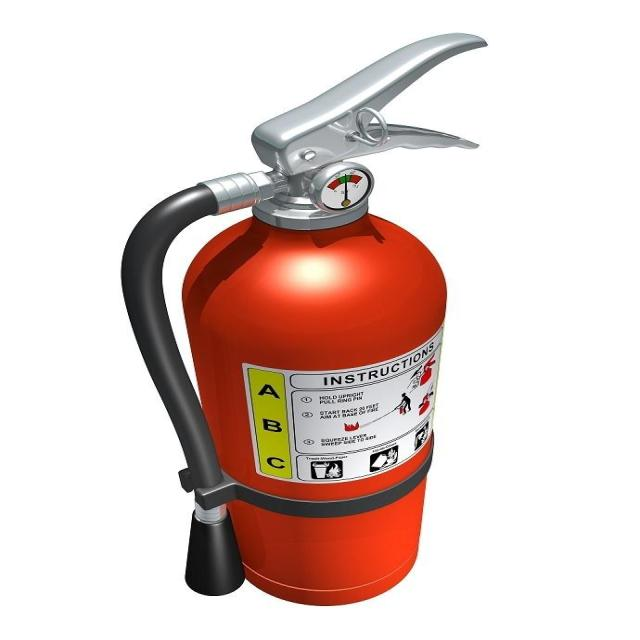fire_extinguisher: (114, 27, 493, 611)
